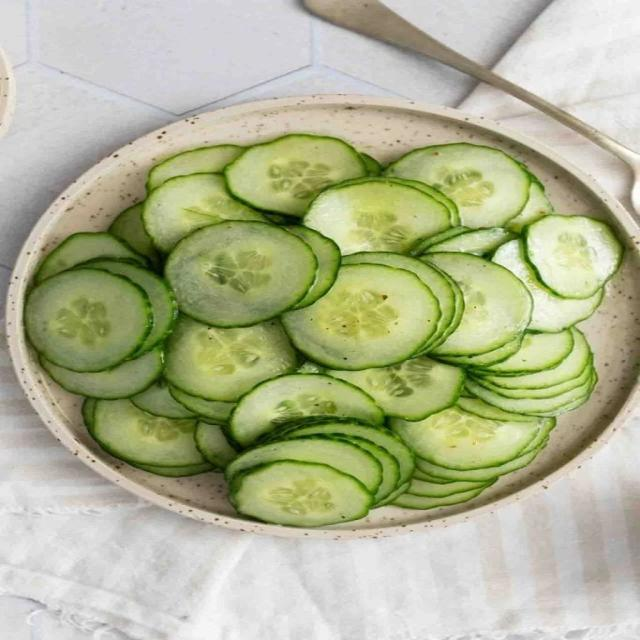cucumber sliced: (283, 264, 439, 370), (165, 221, 317, 327), (25, 269, 152, 371), (386, 144, 530, 228), (225, 135, 368, 216), (164, 317, 297, 402), (229, 374, 384, 446), (343, 252, 456, 350), (304, 180, 450, 254), (429, 253, 532, 355), (492, 241, 603, 332), (143, 174, 266, 253), (230, 460, 372, 526), (390, 407, 541, 469), (81, 259, 178, 355), (225, 435, 382, 493), (279, 420, 415, 484), (328, 357, 464, 420), (524, 215, 623, 298), (92, 400, 207, 466), (482, 328, 592, 389), (41, 348, 163, 399), (35, 232, 147, 282), (342, 177, 459, 224), (417, 441, 546, 481), (284, 225, 341, 308), (332, 435, 399, 505), (416, 259, 464, 354), (147, 145, 243, 191), (466, 379, 592, 414), (473, 362, 592, 399), (482, 330, 574, 376), (387, 177, 460, 225), (108, 203, 160, 267), (439, 334, 523, 367), (536, 371, 597, 416), (506, 177, 553, 233), (424, 227, 517, 255), (131, 379, 197, 418), (169, 385, 235, 423), (393, 485, 487, 509), (194, 421, 238, 469), (408, 471, 488, 497), (458, 397, 535, 421), (410, 226, 471, 256), (521, 417, 556, 456), (130, 463, 214, 477), (376, 482, 410, 506), (414, 469, 455, 484), (360, 152, 382, 176), (82, 398, 97, 432), (265, 212, 299, 226), (297, 361, 326, 373)
